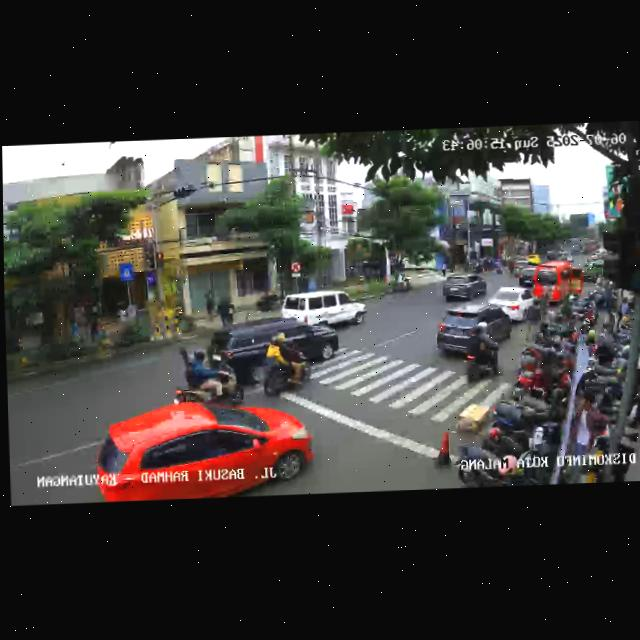car: (93, 396, 315, 502), (215, 315, 335, 387), (435, 303, 509, 363), (282, 288, 363, 330), (533, 261, 585, 307), (487, 285, 538, 324), (439, 271, 487, 303), (519, 265, 535, 287)
motorcycle: (233, 326, 312, 402), (179, 331, 242, 404), (461, 319, 500, 383)
person: (215, 295, 236, 330)
